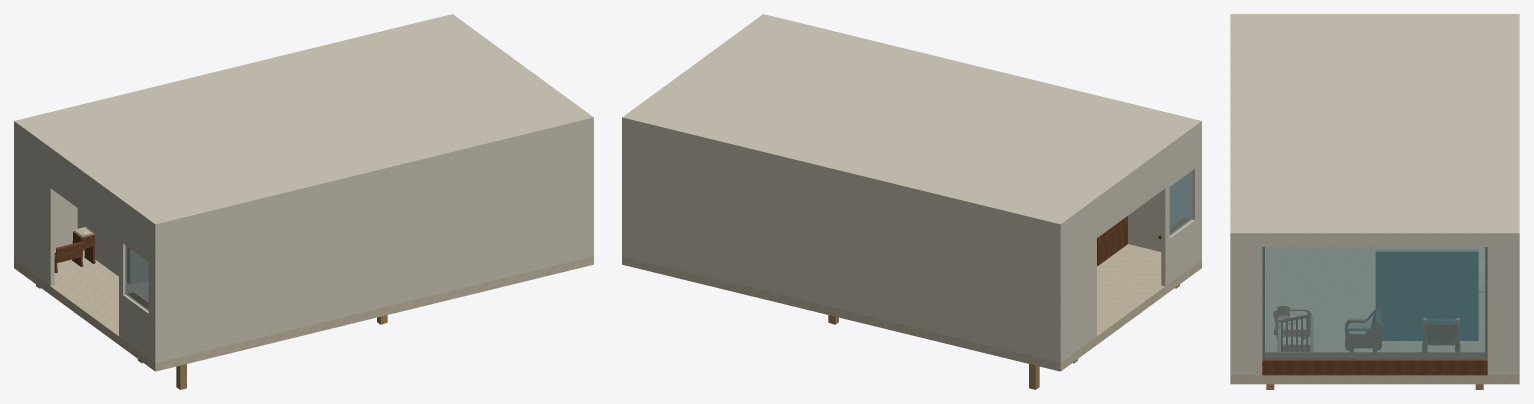
File: QuietGroveBank_505_r001.glb
3 views of the same model, side by side, from view 1: azimuth 30°, elevation 25°; view 2: azimuth 150°, elevation 25°; view 3: azimuth 270°, elevation 25° (orthographic). The views are drawn at different scales.
Parts seen in each view (by area): view 1: QG505_Ceiling, QG505_NorthSide, QG505_RoomFloor, QG505_EntryShoulderSouth, QG505_EntryHeader, QG505_StreetWindowLower, QG505_WashEntrySide, QG505_SouthSide, QG505_StreetWindowUpper, QG505_ScreenedStreetGlass, QGB505_CourtSouthPier; view 2: QG505_Ceiling, QG505_SouthSide, QG505_RoomFloor, QG505_EntryShoulderSouth, QG505_NorthSide, QG505_EntryHeader, QG505_StreetWindowLower, QG505_StreetWindowUpper, QG505_ScreenedStreetGlass, QG505_EntryPrivacyDogleg; view 3: QG505_Ceiling, QGB505_PrivateCourtGlass, QG505_RoomFloor, QG505_Cocoon01_RearLiner, QGB505_CourtNorthPier, QGB505_CourtSouthPier, QGB505_CourtSill, QGB505_CourtHeader, QGB505_DeepReveal_0.34, QG505_NorthSide, QG505_SouthSide, QG505_QG505_DayReadingChair__DAY_CHAIR_L_swept_walnut_cheek (+6 smaller).
Part boxes in pixels (x1,y1,x2,y2): QG505_Ceiling: [14, 14, 593, 229]; QG505_NorthSide: [153, 123, 593, 362]; QG505_RoomFloor: [14, 250, 593, 371]; QG505_EntryShoulderSouth: [16, 128, 54, 286]; QG505_EntryHeader: [49, 153, 119, 238]; QG505_StreetWindowLower: [119, 292, 152, 360]; QG505_WashEntrySide: [77, 208, 133, 284]; QG505_SouthSide: [14, 127, 77, 260]; QG505_StreetWindowUpper: [119, 204, 152, 264]; QG505_ScreenedStreetGlass: [125, 245, 148, 310]; QGB505_CourtSouthPier: [585, 123, 593, 256]; QG505_Ceiling: [622, 14, 1201, 229]; QG505_SouthSide: [622, 123, 1062, 362]; QG505_RoomFloor: [622, 244, 1201, 371]; QG505_EntryShoulderSouth: [1063, 204, 1096, 360]; QG505_NorthSide: [1128, 127, 1201, 260]; QG505_EntryHeader: [1096, 152, 1166, 238]; QG505_StreetWindowLower: [1161, 217, 1199, 286]; QG505_StreetWindowUpper: [1163, 128, 1199, 190]; QG505_ScreenedStreetGlass: [1169, 171, 1192, 235]; QG505_EntryPrivacyDogleg: [1097, 216, 1127, 265]; QG505_Ceiling: [1230, 14, 1519, 238]; QGB505_PrivateCourtGlass: [1262, 247, 1487, 359]; QG505_RoomFloor: [1230, 247, 1519, 384]; QG505_Cocoon01_RearLiner: [1378, 252, 1475, 340]; QGB505_CourtNorthPier: [1487, 239, 1519, 375]; QGB505_CourtSouthPier: [1230, 239, 1262, 375]; QGB505_CourtSill: [1262, 358, 1487, 375]; QGB505_CourtHeader: [1262, 239, 1487, 246]; QGB505_DeepReveal_0.34: [1265, 352, 1484, 357]; QG505_NorthSide: [1230, 239, 1234, 375]; QG505_SouthSide: [1515, 239, 1519, 375]; QG505_QG505_DayReadingChair__DAY_CHAIR_L_swept_walnut_cheek: [1345, 322, 1381, 350].
Size of the model in its own units: 12.9 by 5.31 by 7.2.
Materials: 64 (49 with a texture image).
